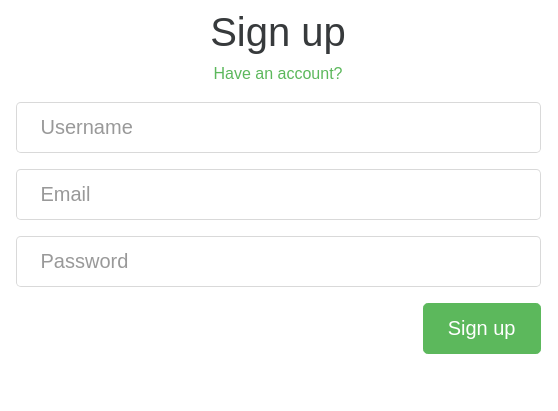
Test: Register page › shows errors from the backend
The width and height of the screenshot is (558, 411).
Click the button with test id "rg-page-sign-up". click: (482, 328)
box: [423, 303, 540, 354]
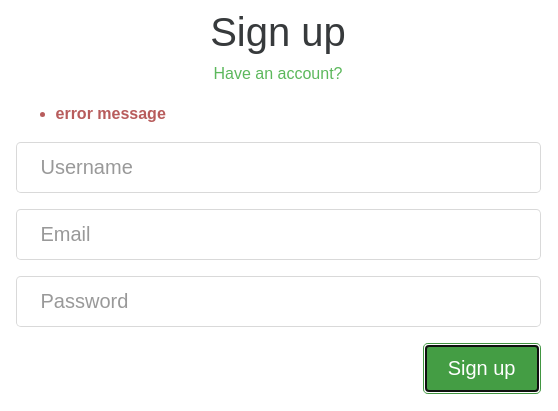
Expected: the number of list items with test id "error-list-item" is 1, [56, 105, 166, 122]
Expected: the list item with test id "error-list-item" reads "error message", [56, 105, 166, 122]
